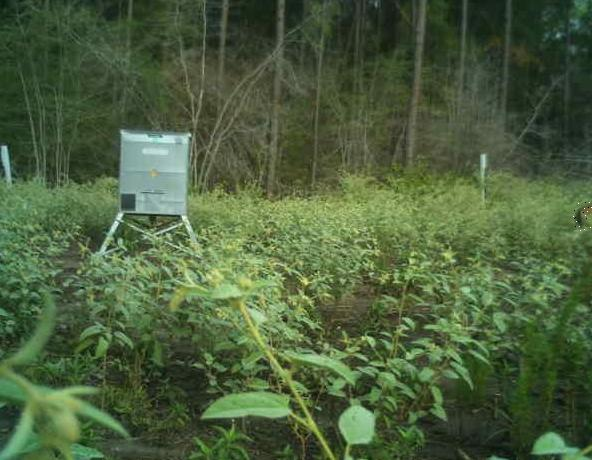Deer: (573, 202, 592, 231)
